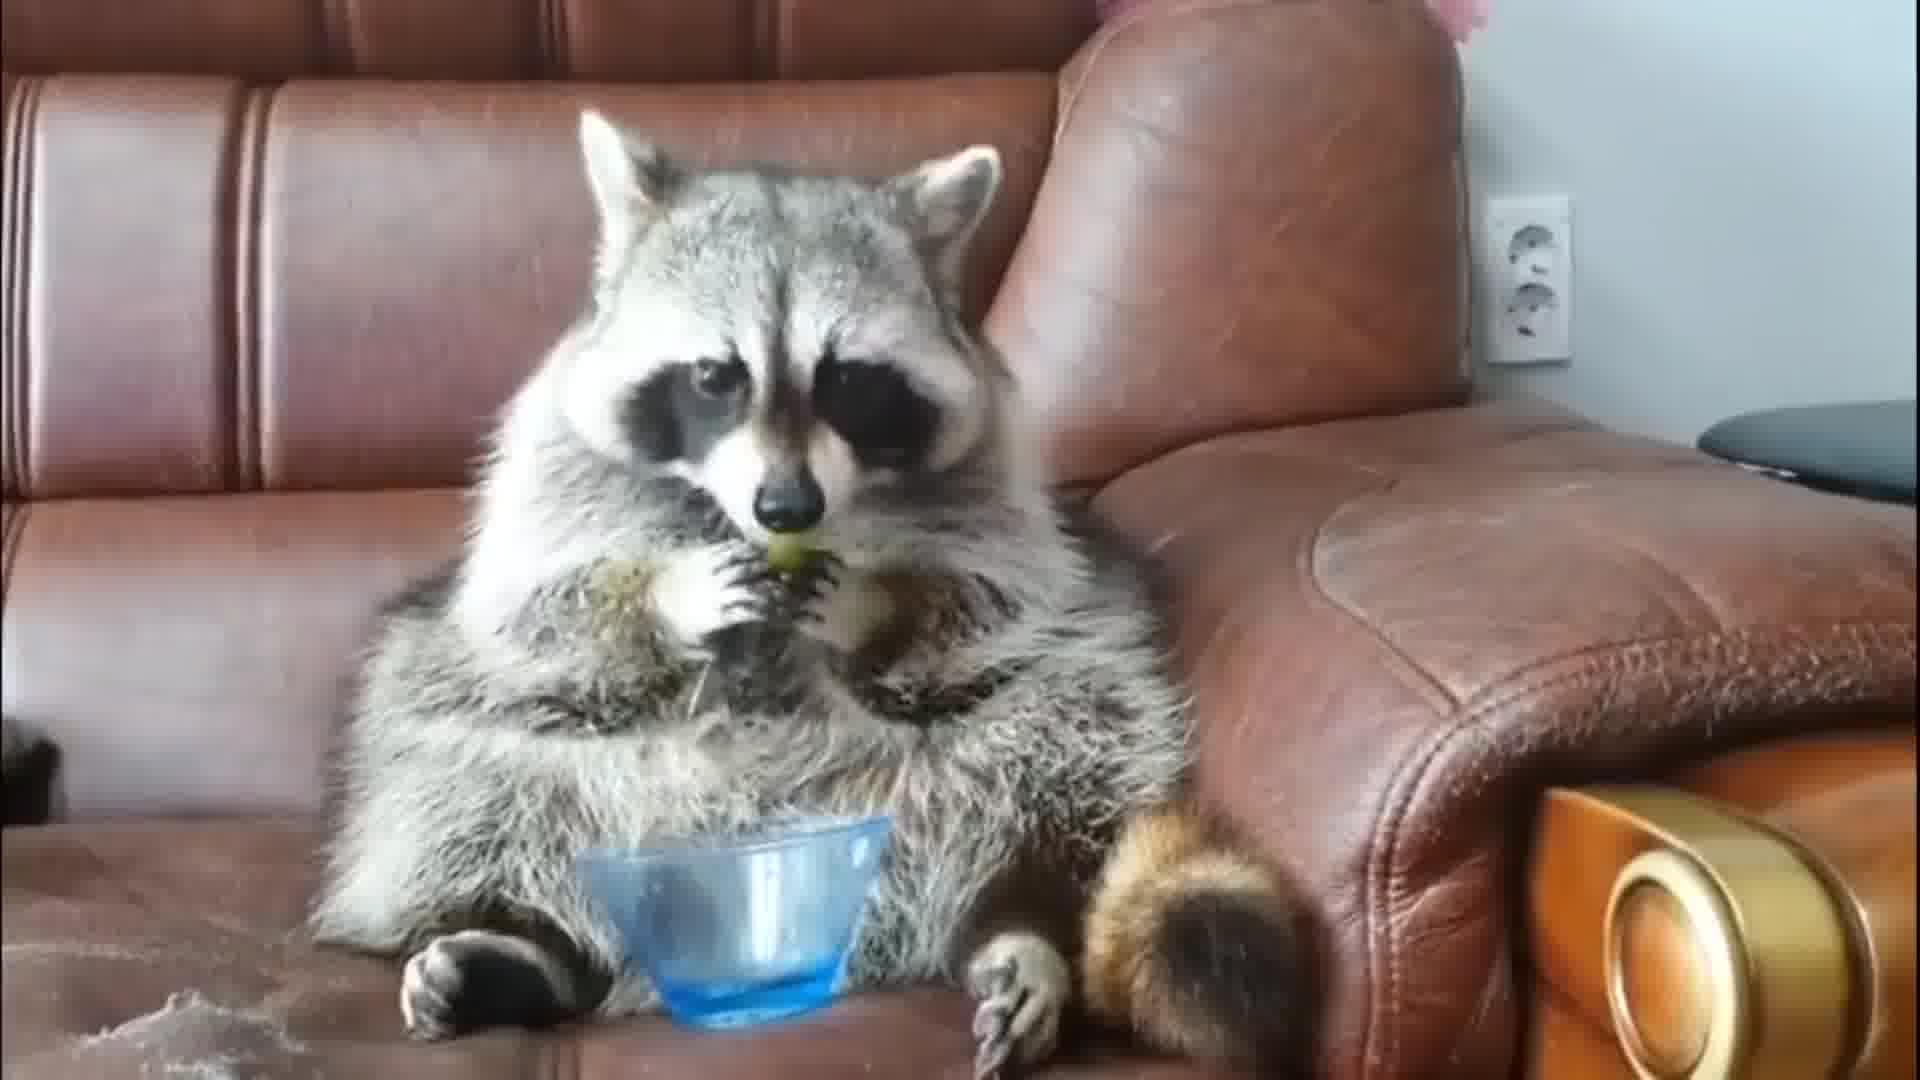raccoon: (306, 107, 1350, 1080)
